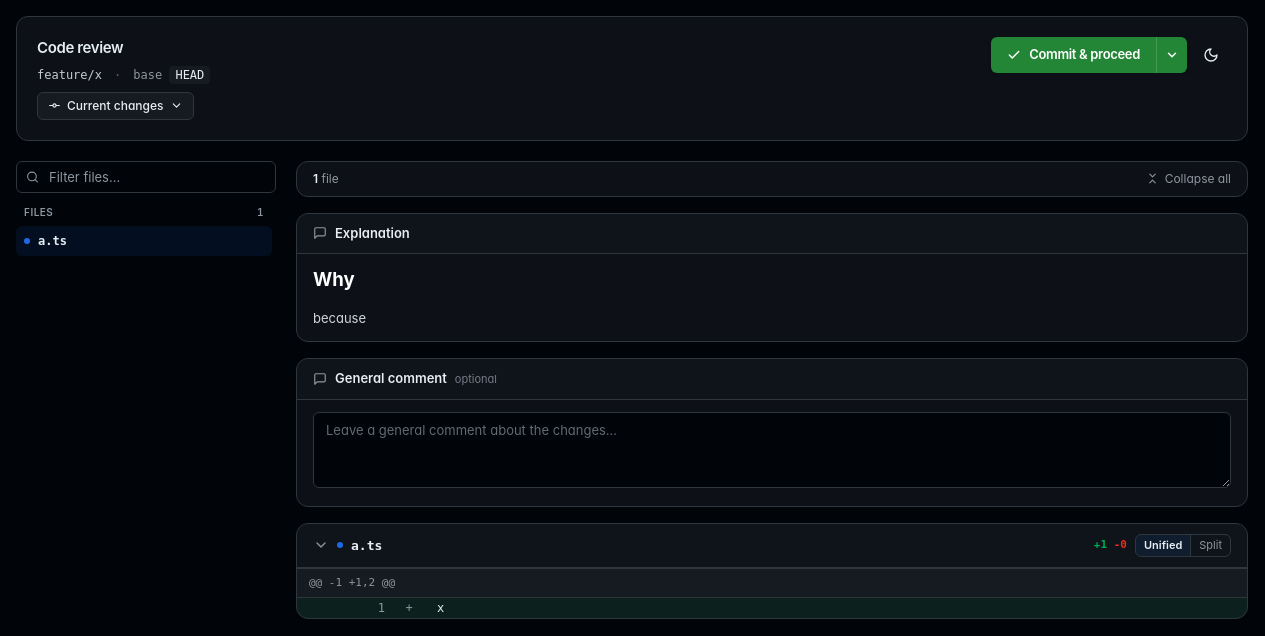
Test: ReviewScreen › loads checkpoints and switches to a read-only checkpoint
Check: the text "feature/x" is shown, box [37,66,102,84]
Click the button "Current changes" at (115, 106), box [37,92,194,120]
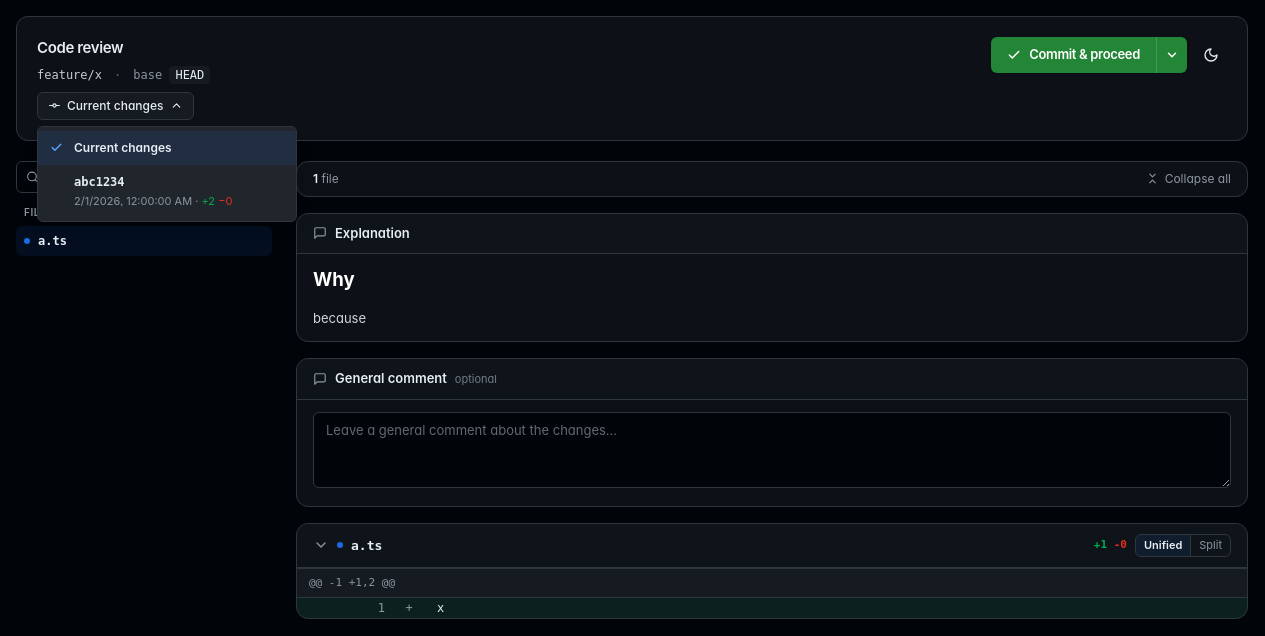
Click the menu item "abc1234 2/1/2026, 12:00:00 AM · +2 −0" at (167, 191), box [38,164,296,217]
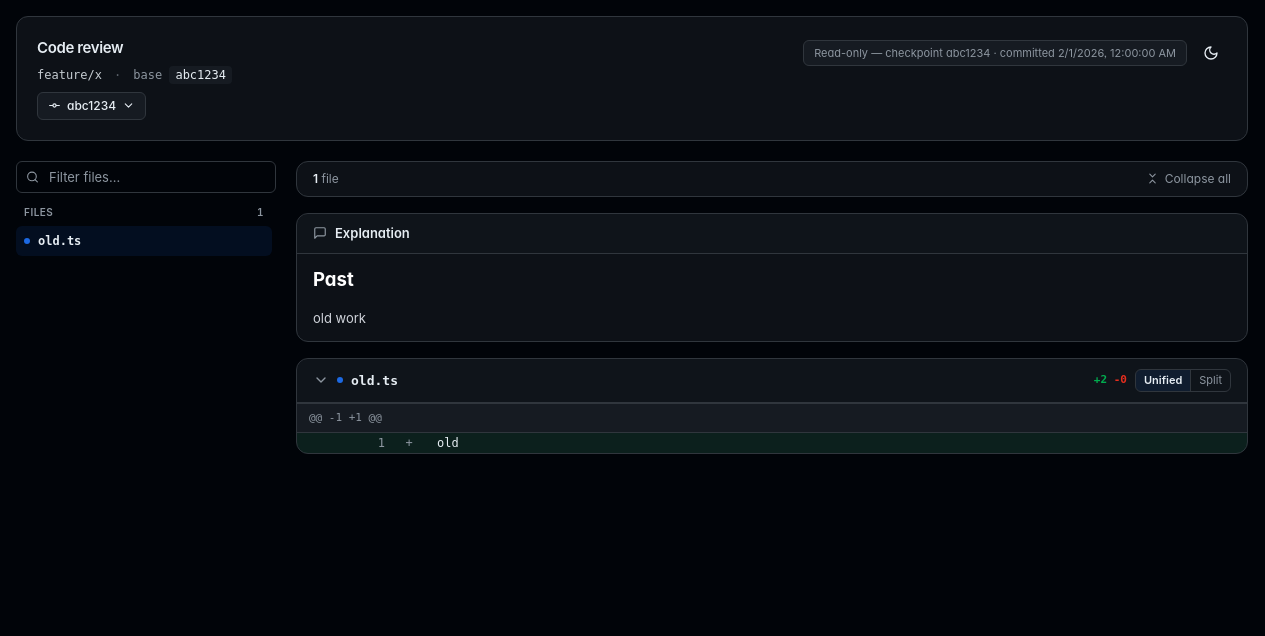
Check: the text "Read-only" is shown, box [814,46,868,60]
Check: the text "old work" is shown, box [313,310,366,326]
